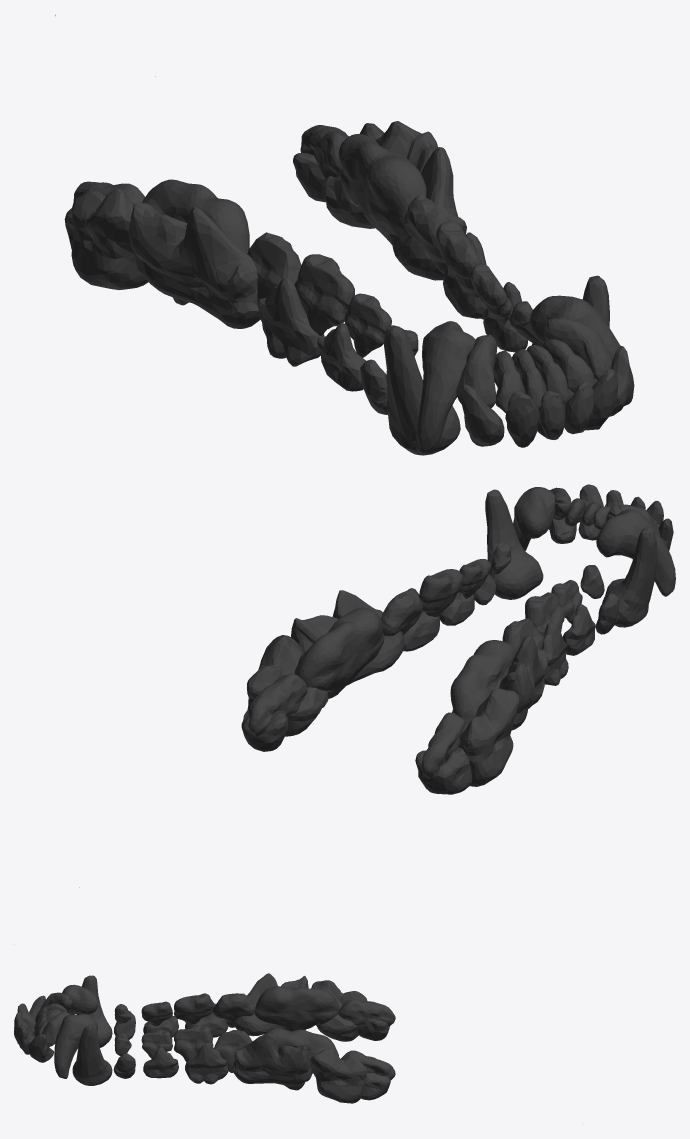
Rendered from b_teeth.glb.
3 views of the same model, one above another, from view 1: azimuth 30°, elevation 25°; view 2: azimuth 150°, elevation 25°; view 3: azimuth 270°, elevation 25° (orthographic). The views are drawn at different scales.
Parts seen in each view (by area): view 1: b_teeth; view 2: b_teeth; view 3: b_teeth.
Boxes of the visible parts, left/top/right/bottom form: b_teeth: left=55, top=15, right=634, bottom=455; b_teeth: left=79, top=484, right=675, bottom=887; b_teeth: left=14, top=973, right=395, bottom=1103.
Size of the model in its own units: 0.00156 by 0.000814 by 0.00548.
Materials: 1 (1 with a texture image).
